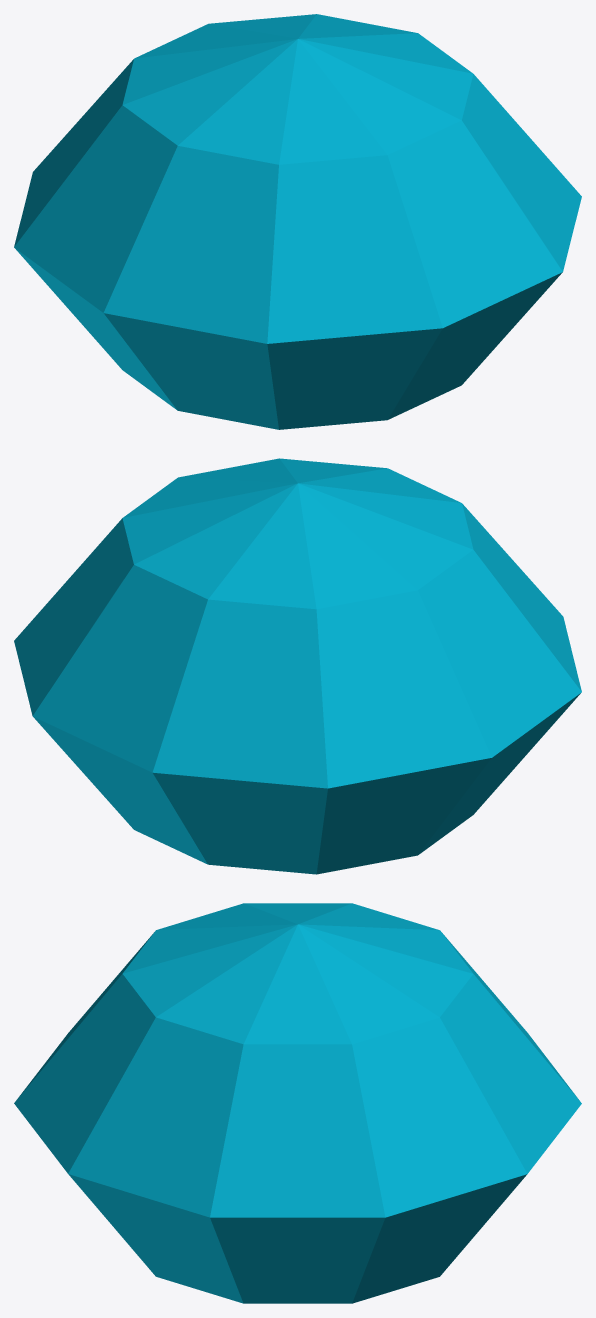
Rendered from blauer stein.fbx.
The picture shows the model from 3 angles, top to bottom: view 1: azimuth 30°, elevation 25°; view 2: azimuth 150°, elevation 25°; view 3: azimuth 270°, elevation 25°; orthographic projection. The views are drawn at different scales.
Parts seen in each view (by area): view 1: Edelstein; view 2: Edelstein; view 3: Edelstein.
Boxes of the visible parts, bbox=[...] form: Edelstein: bbox=[14, 14, 581, 429]; Edelstein: bbox=[14, 458, 581, 874]; Edelstein: bbox=[14, 903, 581, 1303].
Bounding box in the file's own units: 4.5 × 2.84 × 4.73.
